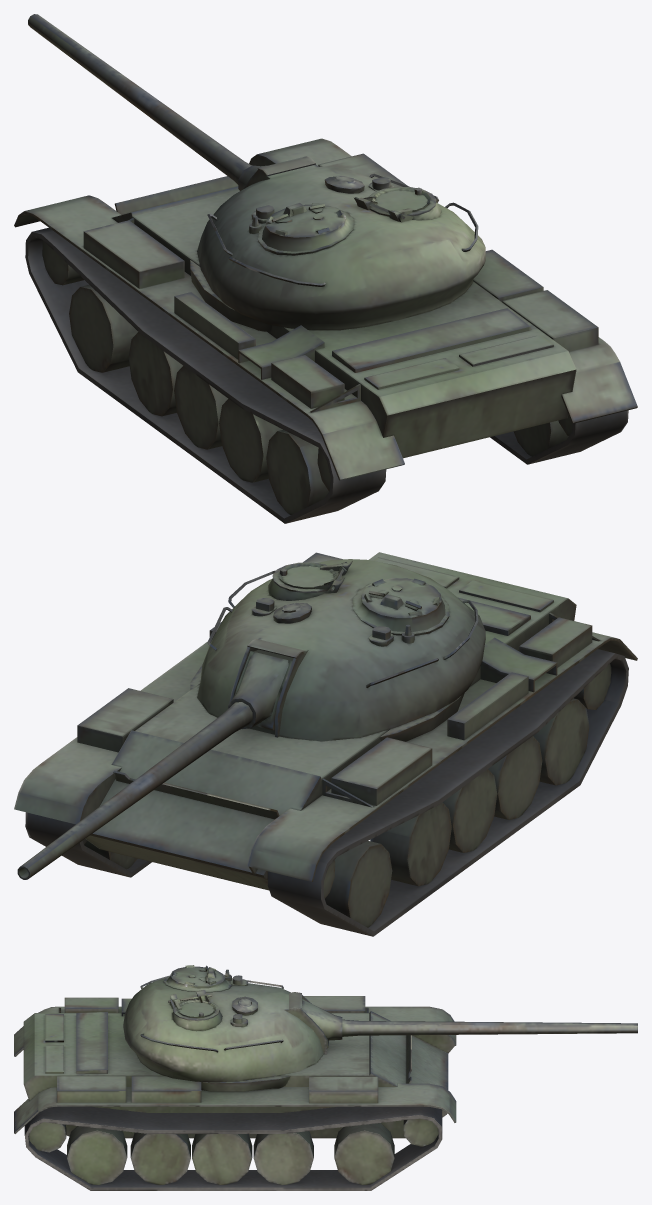
The picture shows the model from 3 angles, top to bottom: view 1: azimuth 30°, elevation 25°; view 2: azimuth 150°, elevation 25°; view 3: azimuth 270°, elevation 25°; orthographic projection. The views are drawn at different scales.
Visible parts, largest first — view 1: T-54 Hull, T-54 Turret; view 2: T-54 Hull, T-54 Turret; view 3: T-54 Hull, T-54 Turret.
Part boxes in pixels (x1,y1,x2,y2): T-54 Hull: [14, 138, 637, 523]; T-54 Turret: [28, 14, 485, 330]; T-54 Hull: [14, 552, 637, 936]; T-54 Turret: [17, 559, 485, 879]; T-54 Hull: [14, 996, 456, 1190]; T-54 Turret: [123, 965, 637, 1082].
Size of the model in its own units: 3.27 by 2.4 by 8.74.
